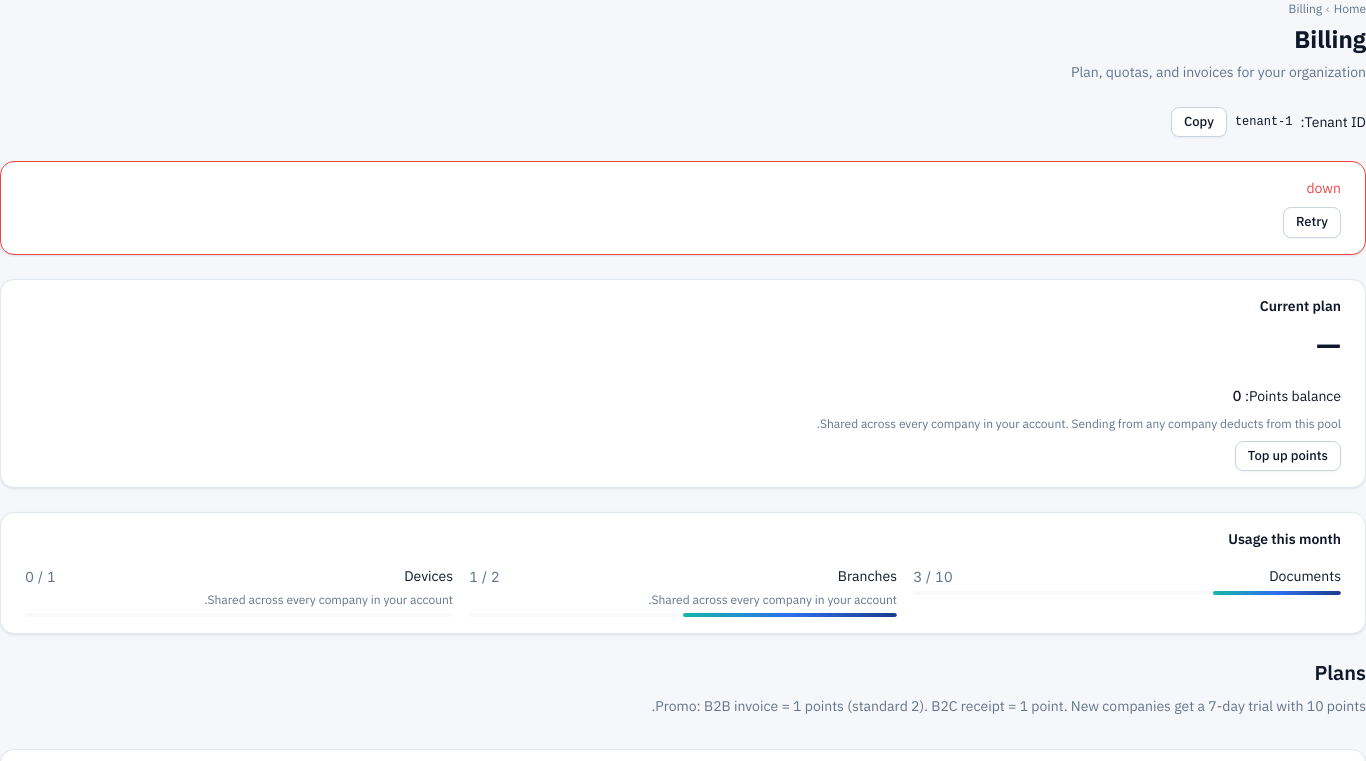
Test: billing page › retries a failed subscription load
The width and height of the screenshot is (1366, 761).
Expected: the message shows "down", 1306,178 -> 1341,199
Click the button "Retry" at (1312, 222), box 1283,207 -> 1341,238
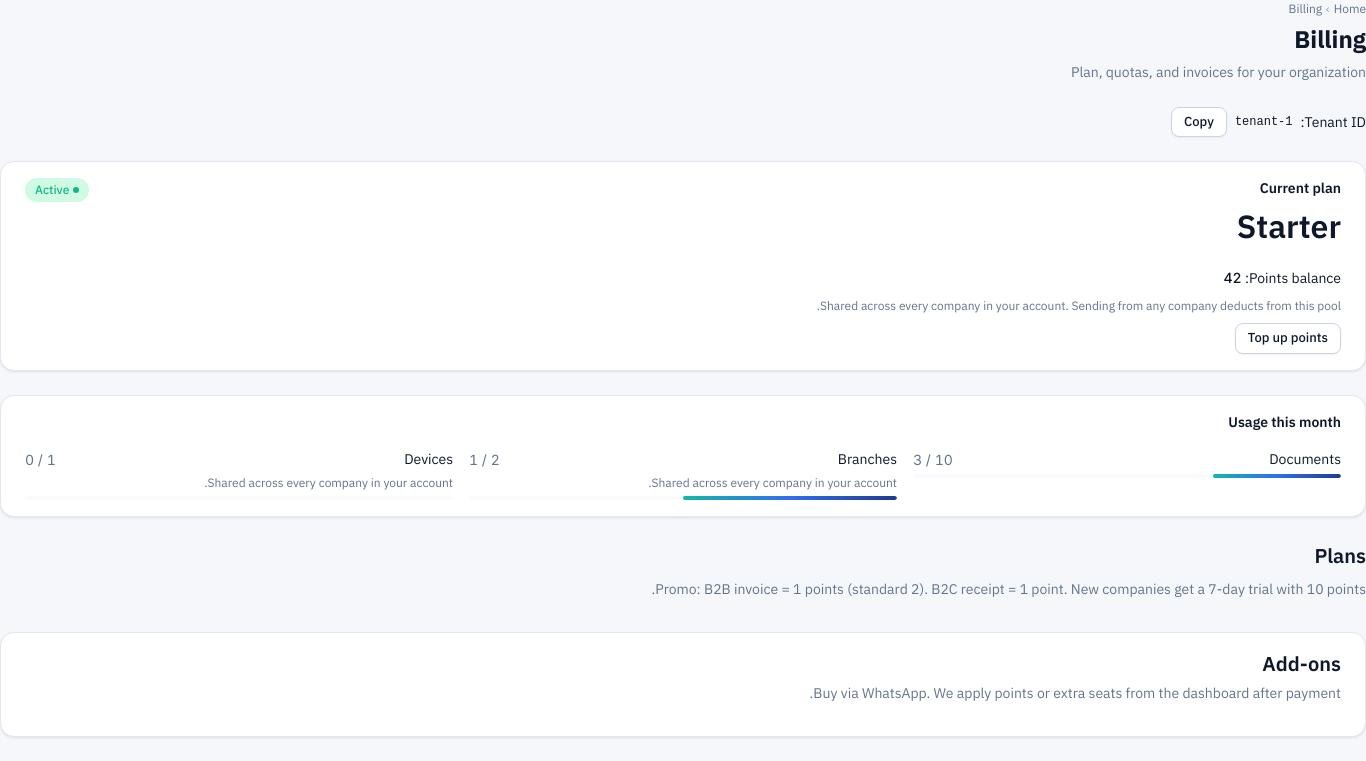
Expected: the text "Starter" is shown, 1237,203 -> 1341,251
